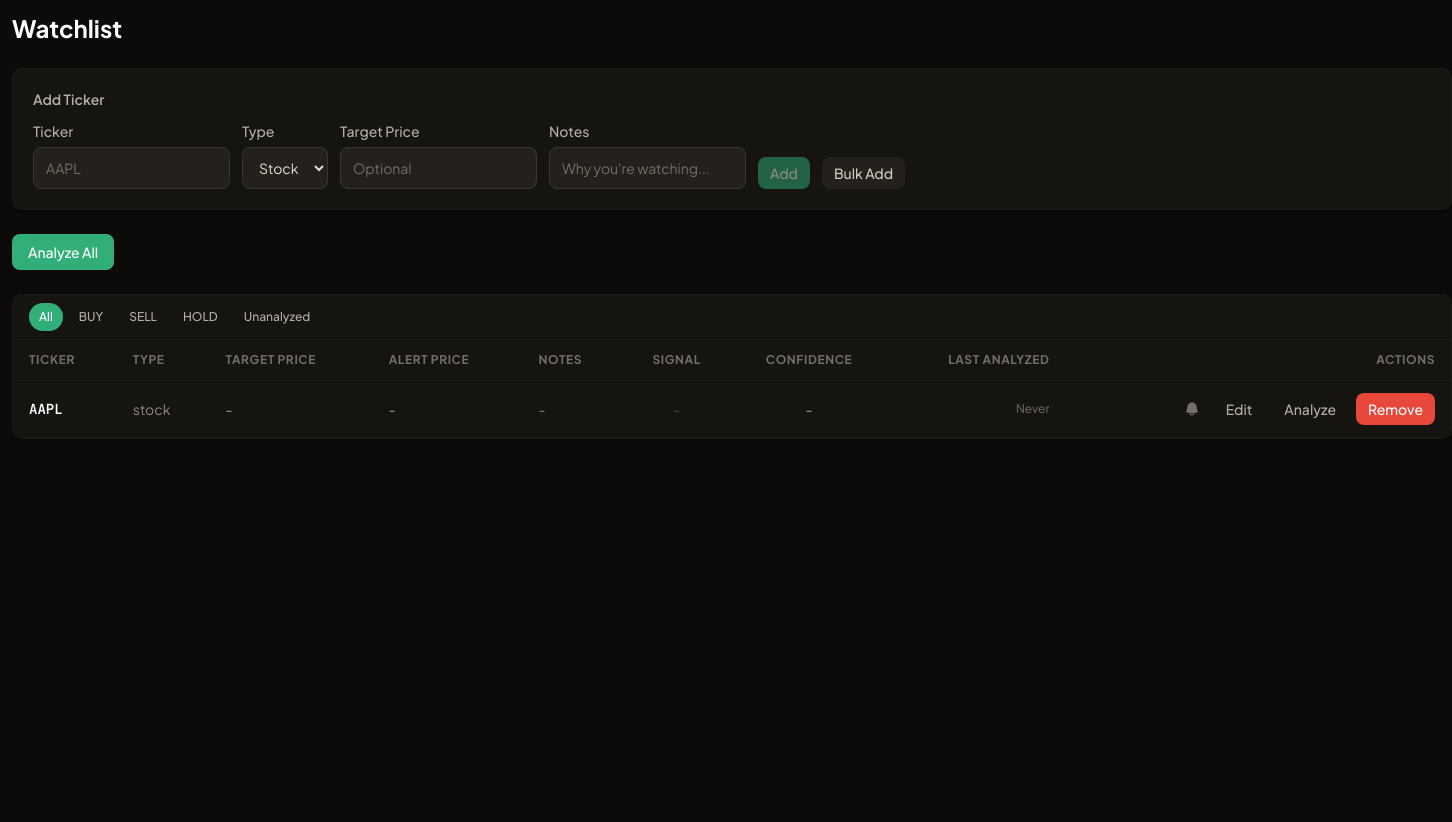
Test: WatchlistPage › opens AlertConfigPanel when bell icon is clicked
Check: the text "AAPL" is shown, box [13,380,117,438]
Click the button named "Alert settings for AAPL" at x=1192, y=409, box [1178,395,1206,423]
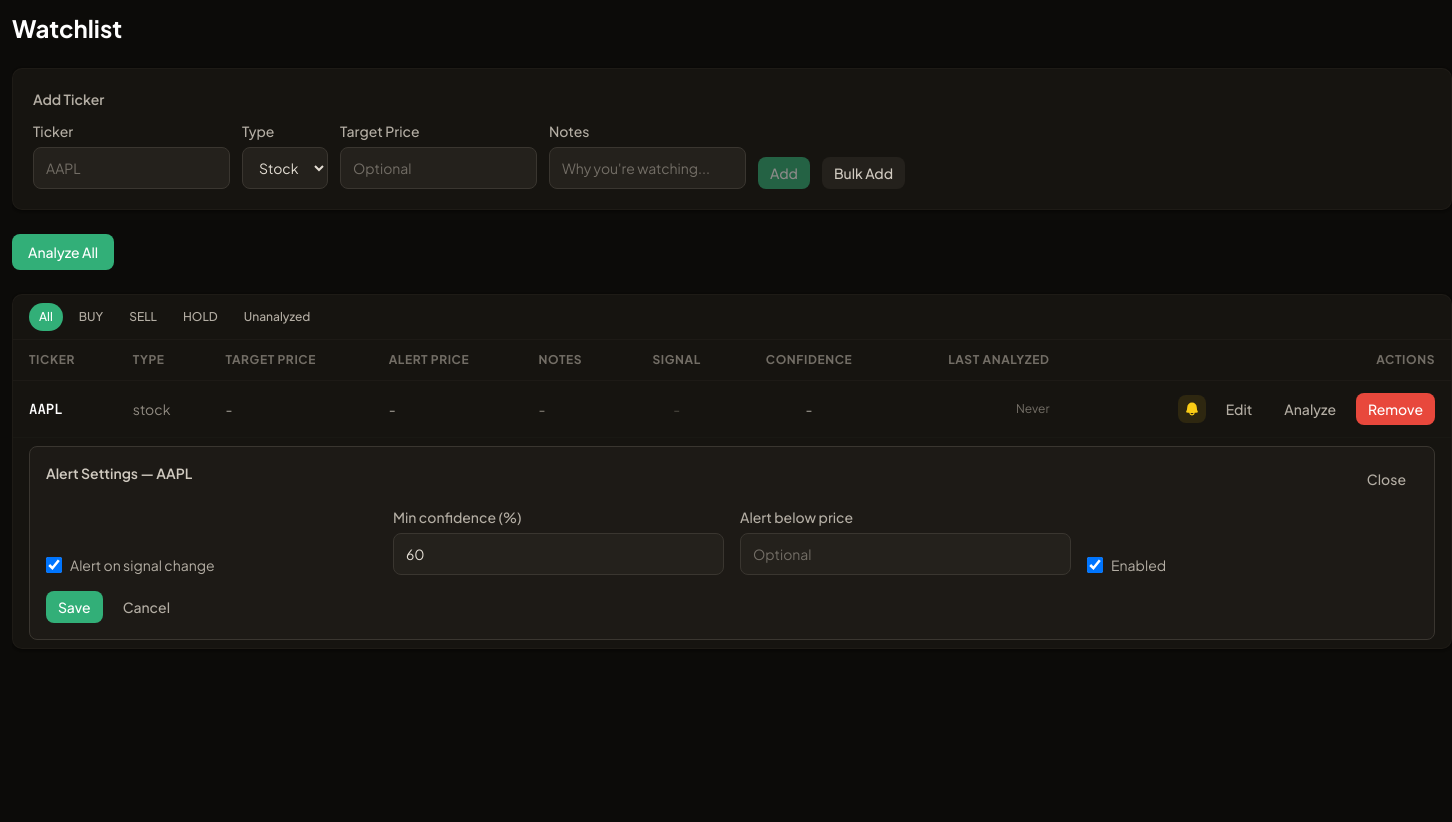
Check: the heading "Alert Settings — AAPL" is shown, box [46,463,192,483]
